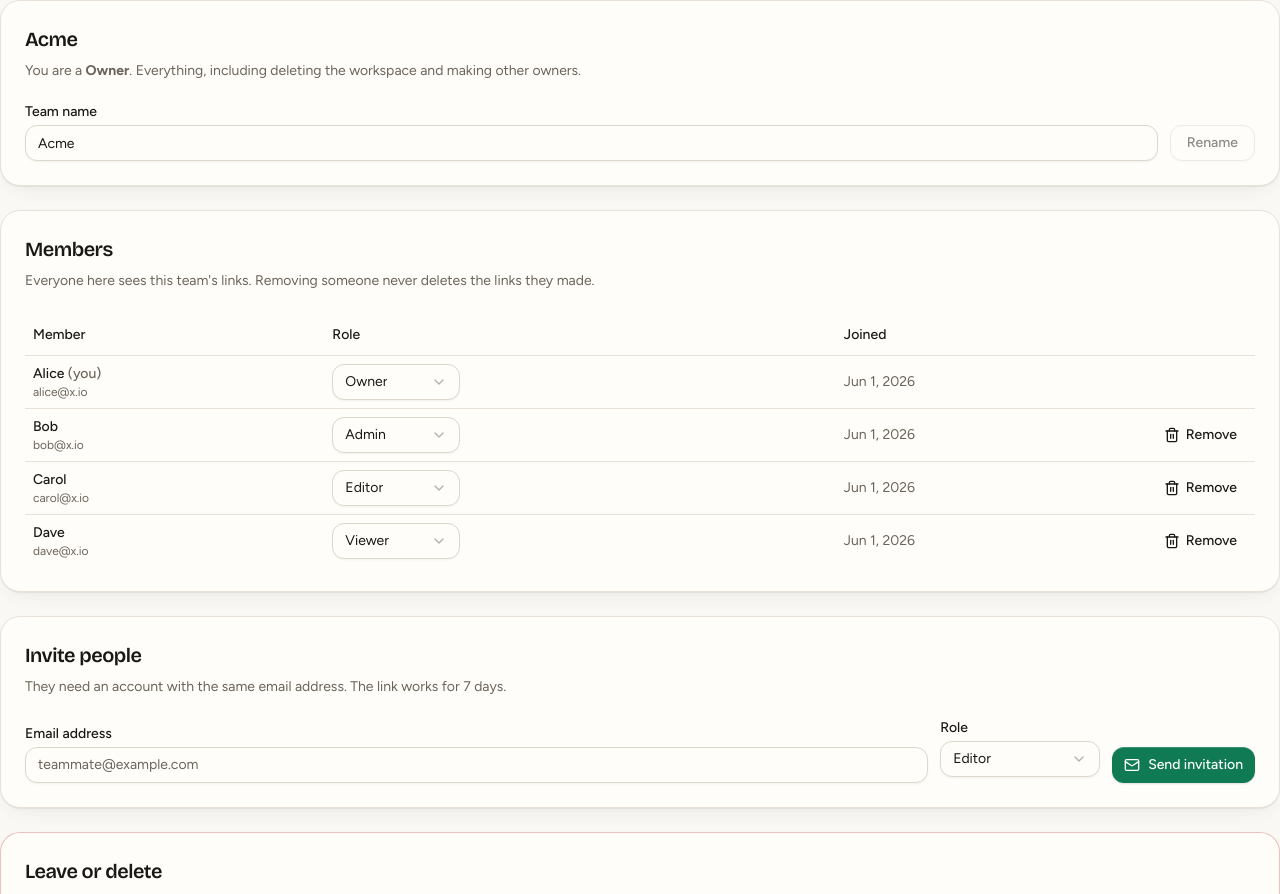
Test case: TeamManager as an owner › says when the invitation was emailed
Type "erin@x.io" into the field labelled "Email address" at {"x": 477, "y": 764}, box x1=25 y1=746 x2=928 y2=782
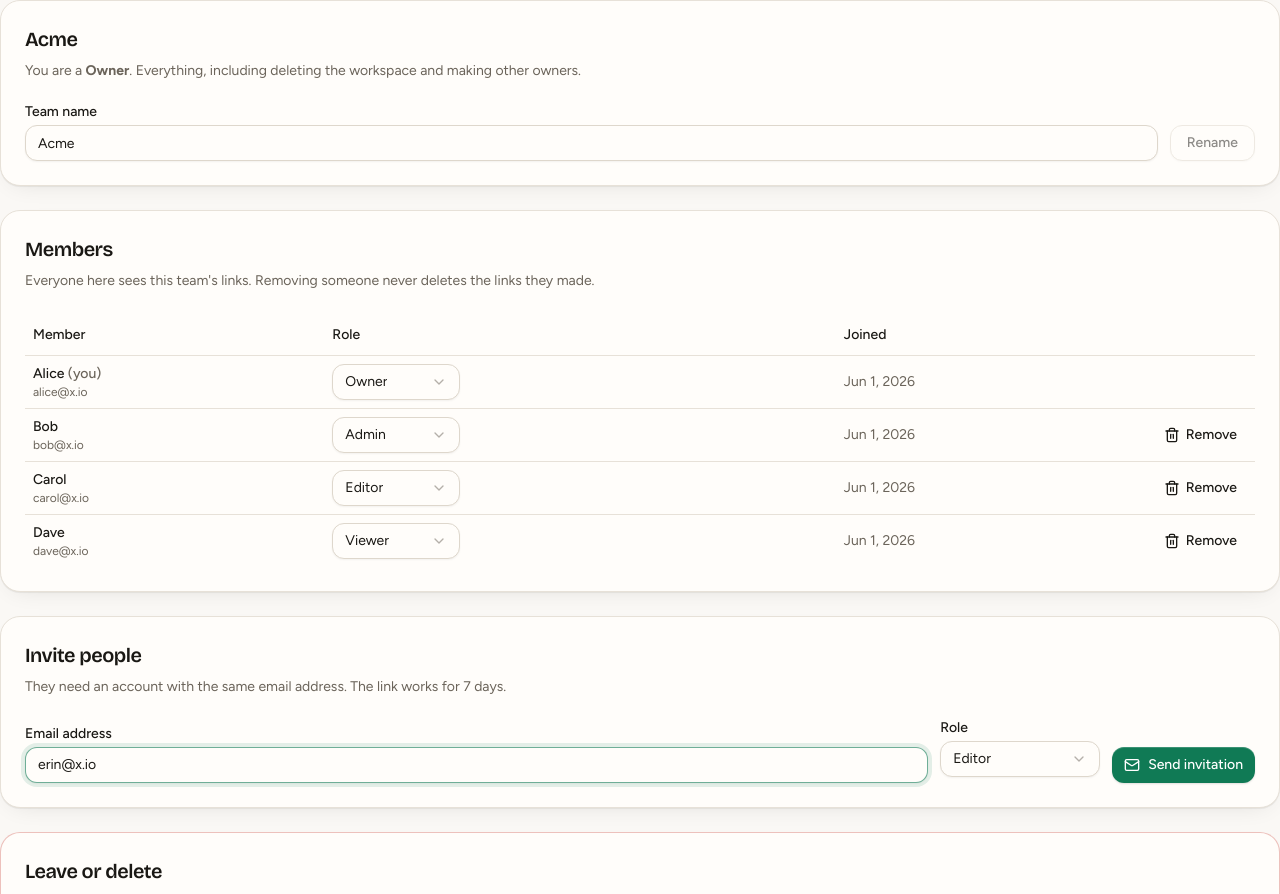
Click the button "Send invitation" at {"x": 1184, "y": 764}, box x1=1112 y1=746 x2=1255 y2=782
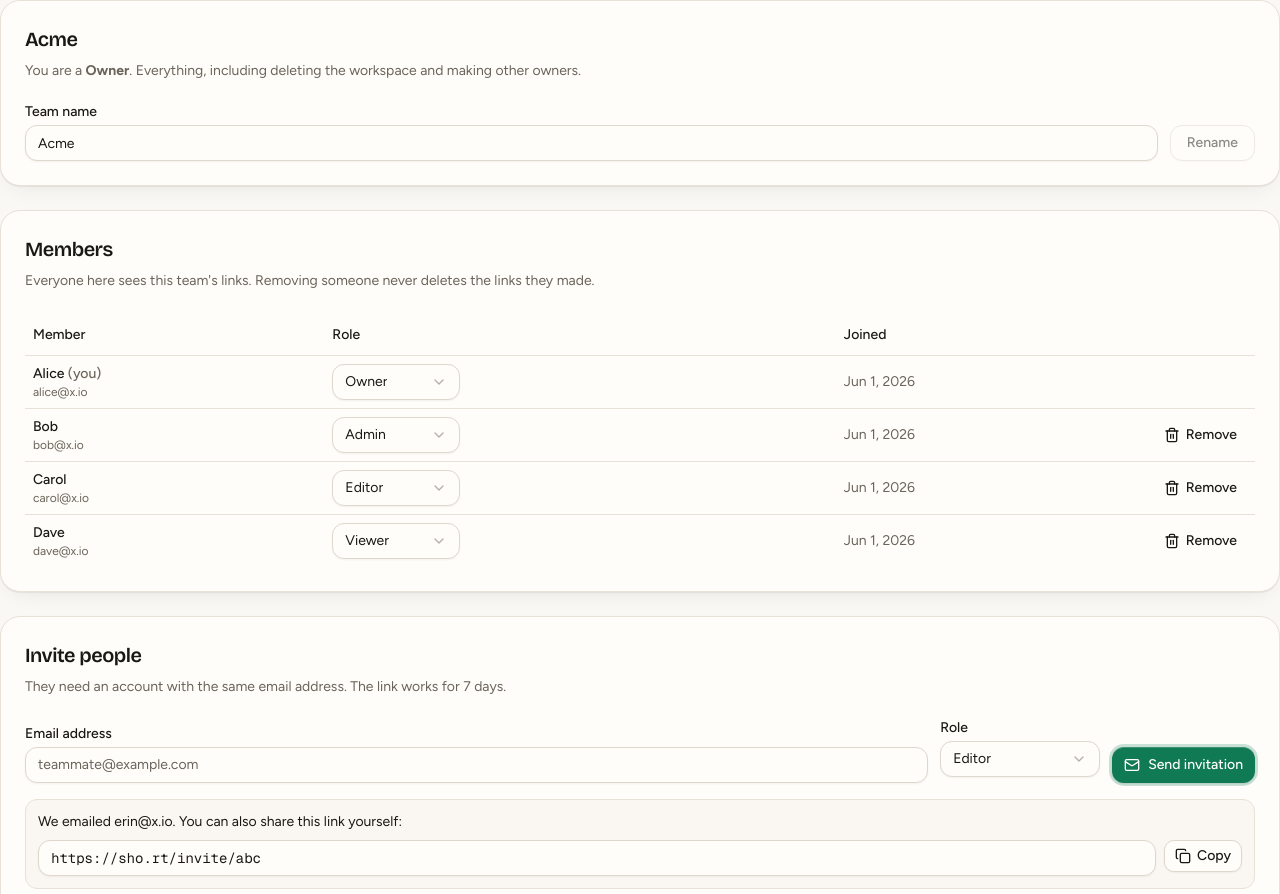
Expected: the message with test id "invite-result" shows "We emailed erin@x.io", x1=38 y1=812 x2=402 y2=830
